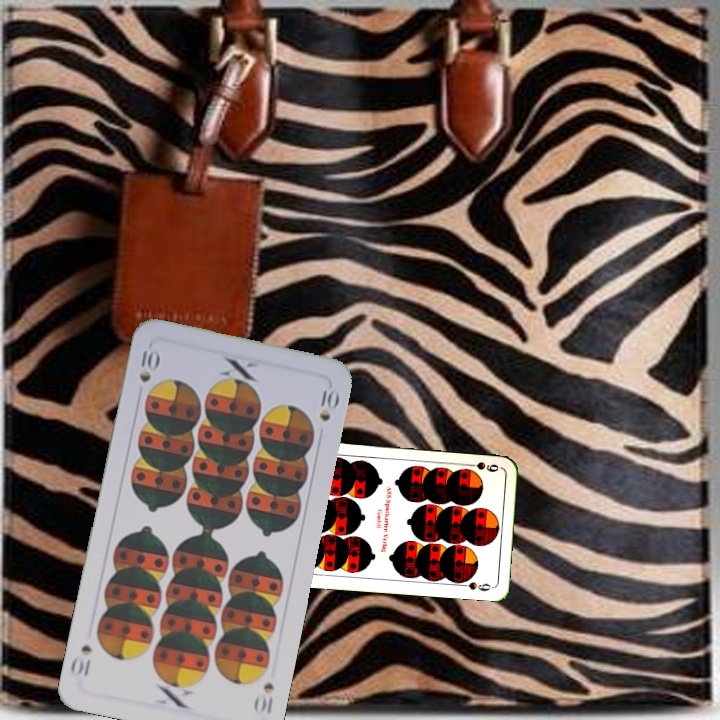S10: (250, 679, 277, 717), (135, 346, 161, 385)
S9: (461, 458, 501, 475)
